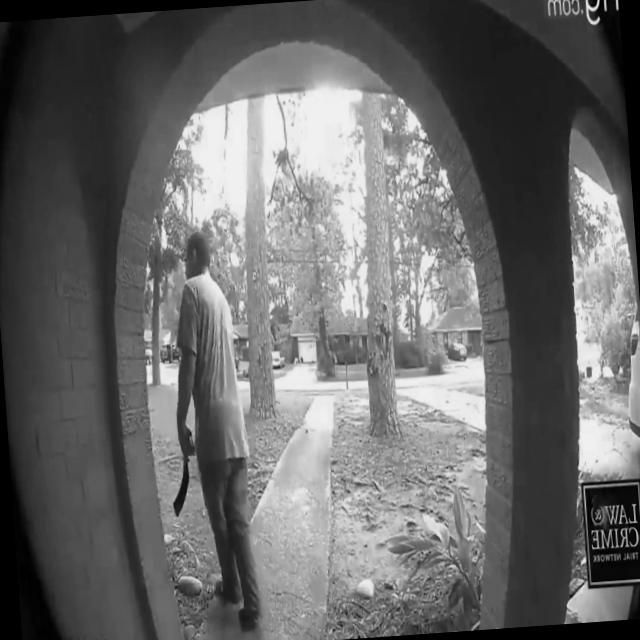weapon: (153, 187, 291, 640)
